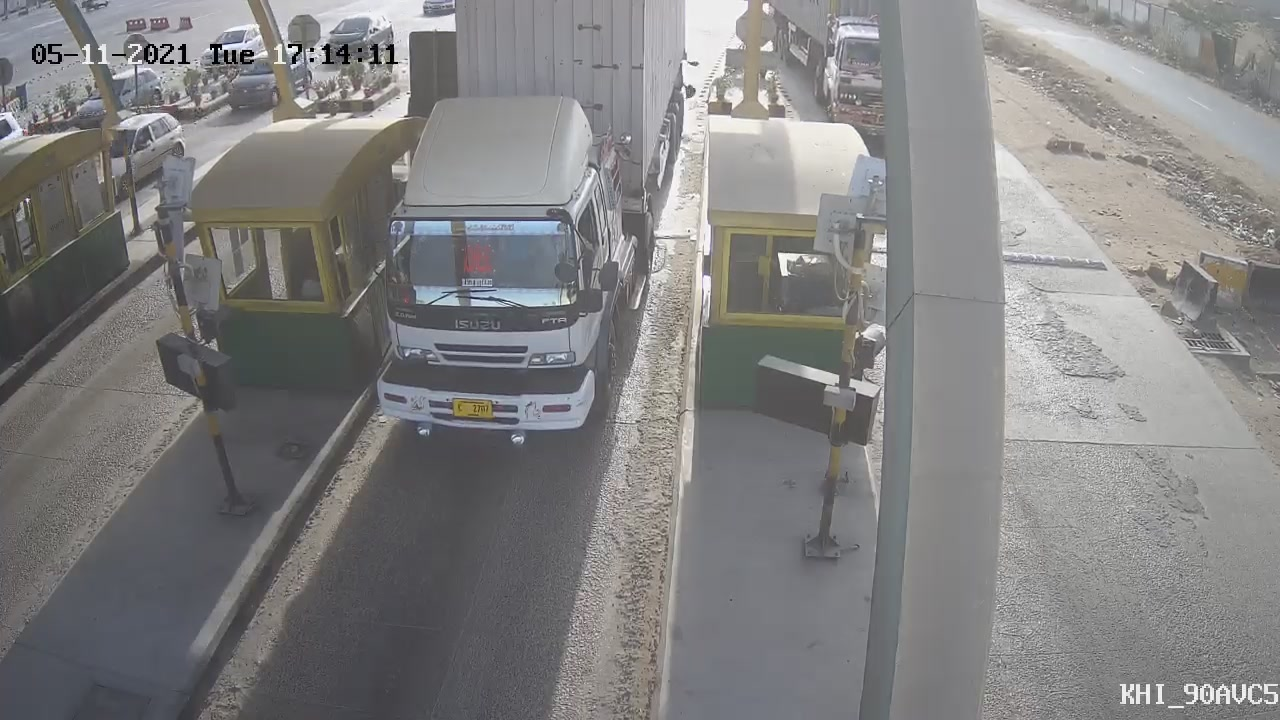F6: (322, 1, 704, 474)
